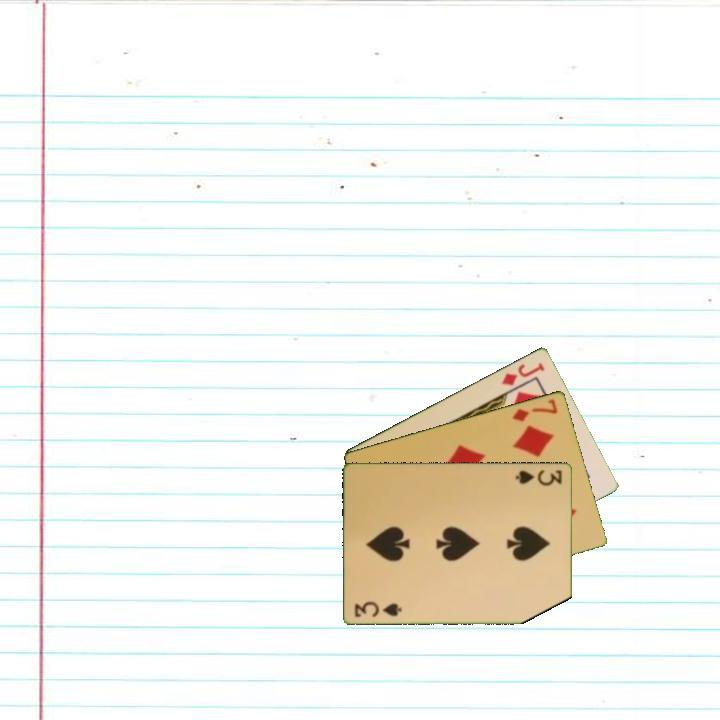3s: (352, 597, 405, 620), (513, 466, 565, 488)
7d: (509, 395, 561, 424)
Jd: (498, 359, 548, 388)
